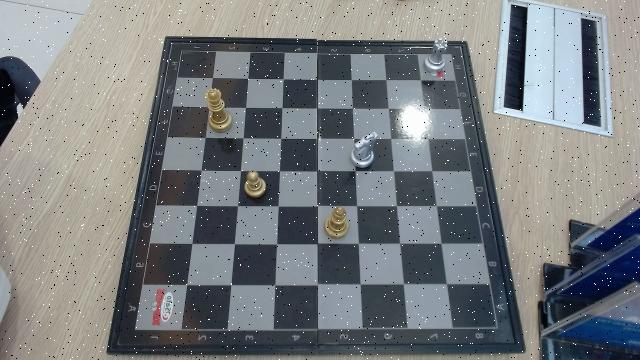black_bishop: (326, 205, 350, 238)
black_pawn: (245, 170, 267, 196)
black_queen: (206, 87, 234, 132)
white_knight: (351, 131, 380, 168)
white_rook: (425, 37, 449, 72)
